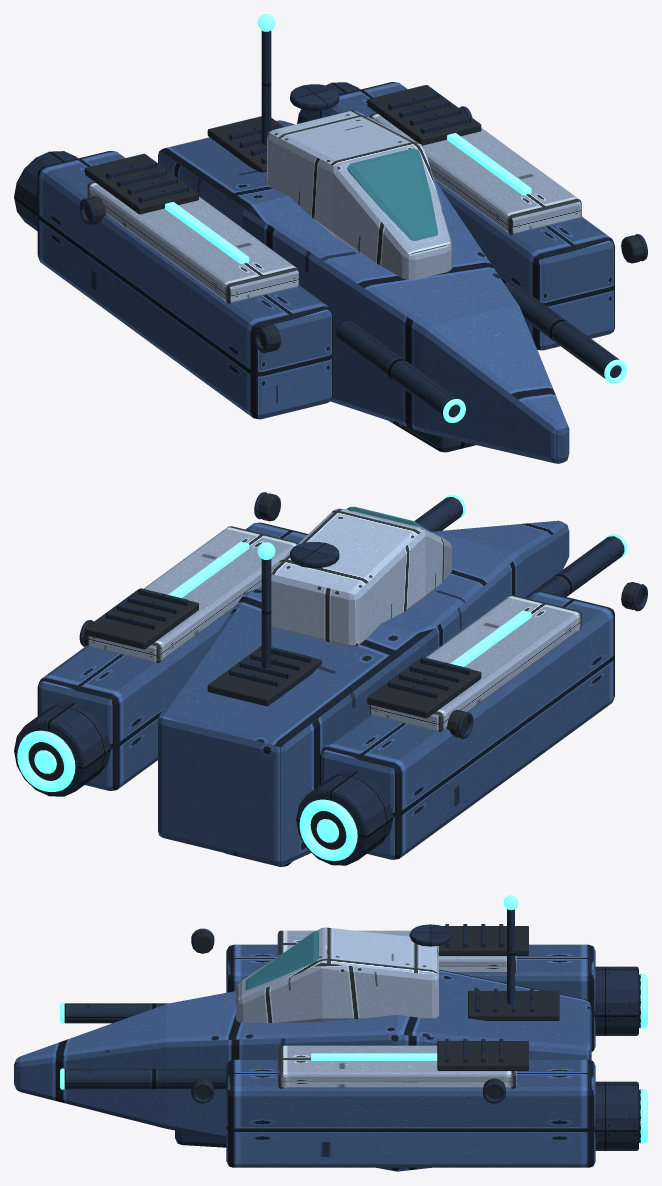
The model's file is lancer.glb.
3 renders of one model, top to bottom at view 1: azimuth 30°, elevation 25°; view 2: azimuth 150°, elevation 25°; view 3: azimuth 270°, elevation 25°, orthographic. The views are drawn at different scales.
Parts seen in each view (by area): view 1: Surface_Titanium_Panels, Surface_Ceramic_Armor, Surface_Brushed_Steel, Surface_Recess_Carbon, Surface_lancer_Glazed_Optics, Surface_lancer_Reactor; view 2: Surface_Titanium_Panels, Surface_Ceramic_Armor, Surface_Brushed_Steel, Surface_Recess_Carbon, Surface_lancer_Reactor; view 3: Surface_Titanium_Panels, Surface_Ceramic_Armor, Surface_Brushed_Steel, Surface_Recess_Carbon, Surface_lancer_Reactor, Surface_lancer_Glazed_Optics.
Part boxes in pixels (x1,y1,x2,y2): Surface_Titanium_Panels: [37, 82, 614, 463]; Surface_Ceramic_Armor: [87, 110, 581, 303]; Surface_Brushed_Steel: [14, 31, 647, 452]; Surface_Recess_Carbon: [84, 85, 643, 351]; Surface_lancer_Glazed_Optics: [347, 148, 437, 241]; Surface_lancer_Reactor: [164, 14, 627, 422]; Surface_Titanium_Panels: [37, 520, 614, 865]; Surface_Ceramic_Armor: [87, 508, 581, 731]; Surface_Brushed_Steel: [14, 492, 647, 866]; Surface_Recess_Carbon: [28, 493, 642, 849]; Surface_lancer_Reactor: [17, 494, 627, 860]; Surface_Titanium_Panels: [14, 944, 595, 1171]; Surface_Ceramic_Armor: [236, 927, 516, 1088]; Surface_Brushed_Steel: [64, 909, 638, 1150]; Surface_Recess_Carbon: [191, 926, 640, 1143]; Surface_lancer_Reactor: [60, 895, 647, 1143]; Surface_lancer_Glazed_Optics: [245, 930, 318, 990].
Size of the model in its own units: 1.33 by 1.03 by 2.28.
Materials: 6 (3 with a texture image).
